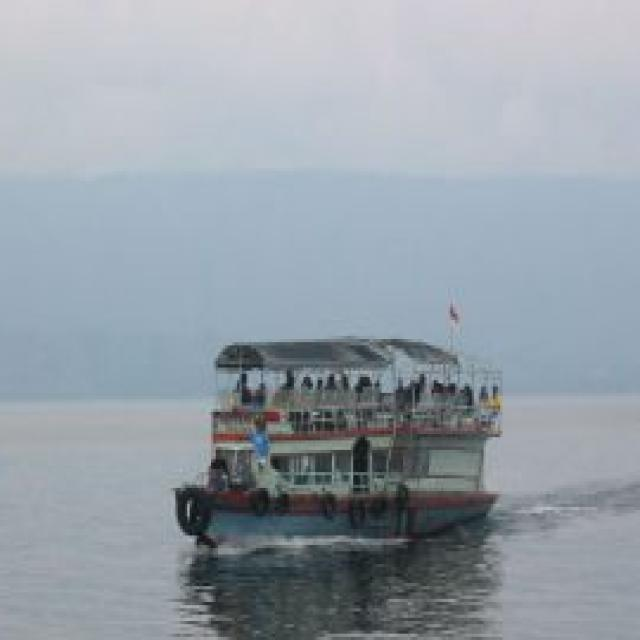houseboat: (169, 304, 510, 566)
